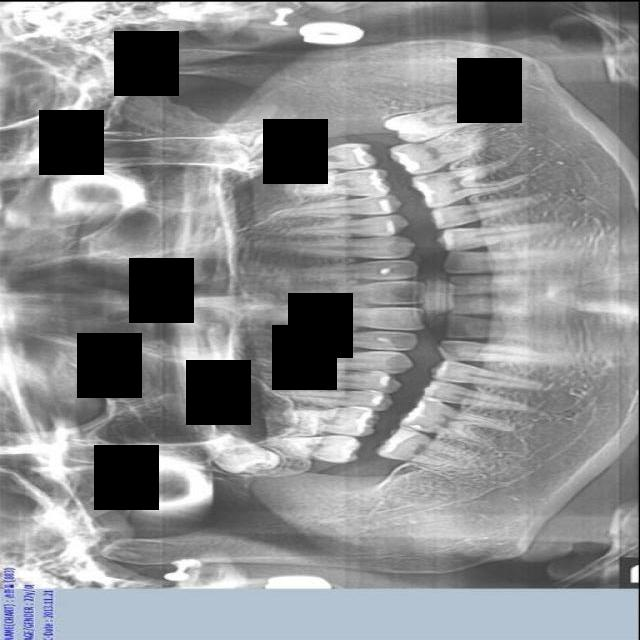3M ESPE Implant: (193, 425, 284, 487)
52: (375, 419, 434, 470), (388, 136, 443, 179), (399, 393, 454, 435), (357, 257, 419, 281), (354, 329, 419, 351)
73: (586, 25, 596, 34)
BioHorizons Implant: (274, 139, 378, 175)
BioLife Implant: (237, 119, 311, 170)
Biomet 3i Implant: (382, 97, 477, 150)
Blue Sky Bio Implant: (386, 122, 491, 182)
Caries: (264, 430, 362, 463)
Implant: (374, 422, 479, 471)
